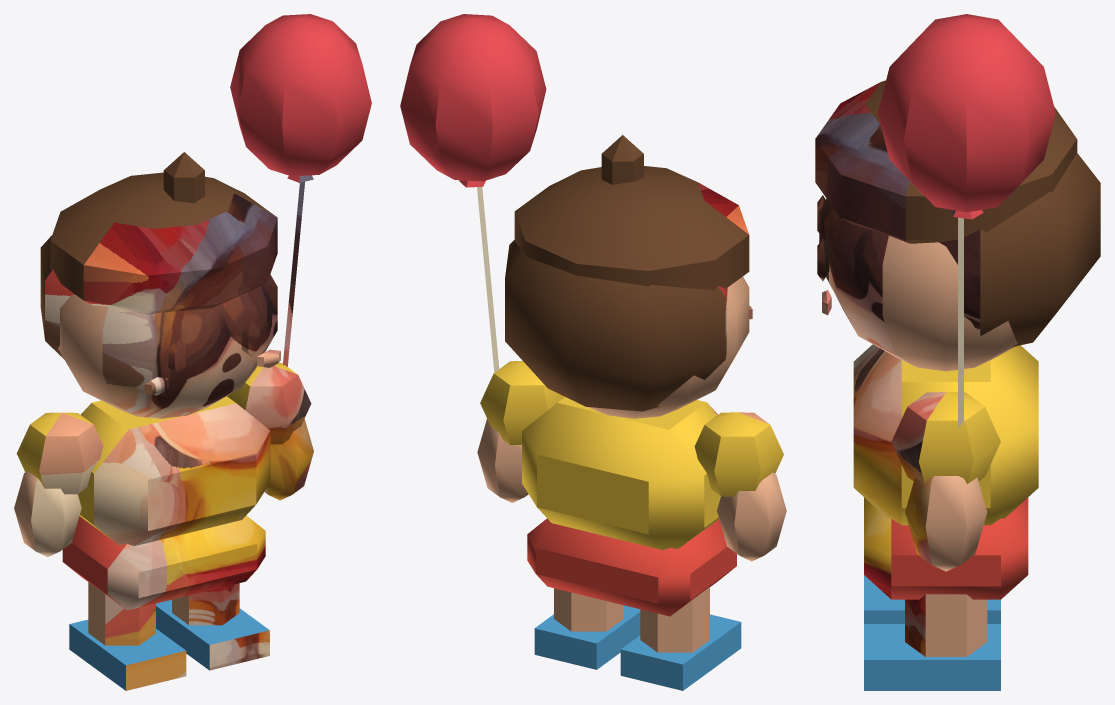
File: guest_02.glb
The picture shows the model from 3 angles, left to right: view 1: azimuth 30°, elevation 25°; view 2: azimuth 150°, elevation 25°; view 3: azimuth 270°, elevation 25°; orthographic projection. The views are drawn at different scales.
Parts seen in each view (by area): view 1: guest_02; view 2: guest_02; view 3: guest_02.
Boxes of the visible parts, left/top/right/bottom form: guest_02: left=14, top=14, right=371, bottom=690; guest_02: left=400, top=14, right=786, bottom=690; guest_02: left=815, top=14, right=1100, bottom=690.
Size of the model in its own units: 0.3226 by 0.5173 by 0.1874.
10 materials, 1 textured.
